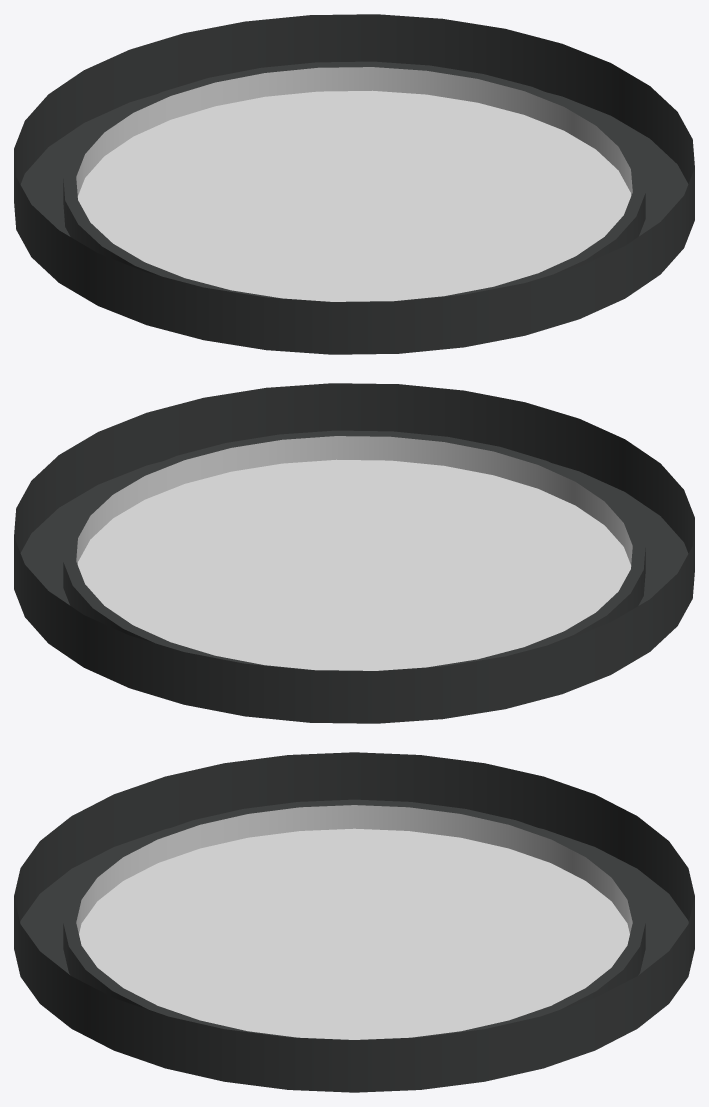
File: Lamp_small.fbx
The picture shows the model from 3 angles, top to bottom: view 1: azimuth 30°, elevation 25°; view 2: azimuth 150°, elevation 25°; view 3: azimuth 270°, elevation 25°; orthographic projection.
Parts seen in each view (by area): view 1: SM_Lamp_small; view 2: SM_Lamp_small; view 3: SM_Lamp_small.
Part boxes in pixels (box(x1,y1,x2,y2)): SM_Lamp_small: box(14, 14, 694, 354); SM_Lamp_small: box(14, 383, 694, 723); SM_Lamp_small: box(14, 752, 694, 1092).
Bounding box in the file's own units: 10.75 × 0.9169 × 10.75.
2 materials, 1 textured.
